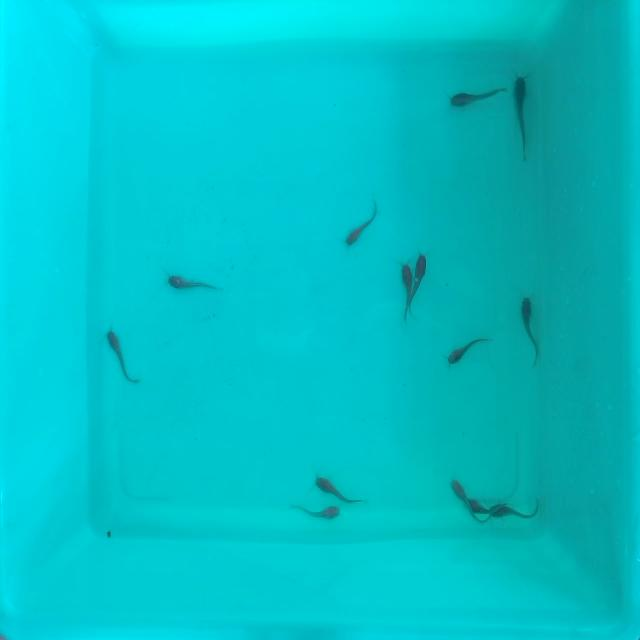lele: (340, 198, 380, 249), (104, 329, 138, 387), (312, 472, 366, 508), (446, 330, 494, 368), (447, 86, 507, 112), (518, 294, 540, 362), (514, 74, 530, 160), (411, 255, 427, 323), (492, 501, 544, 521), (288, 503, 340, 521), (168, 274, 220, 292), (402, 264, 412, 318), (450, 478, 468, 506), (462, 501, 491, 517)
